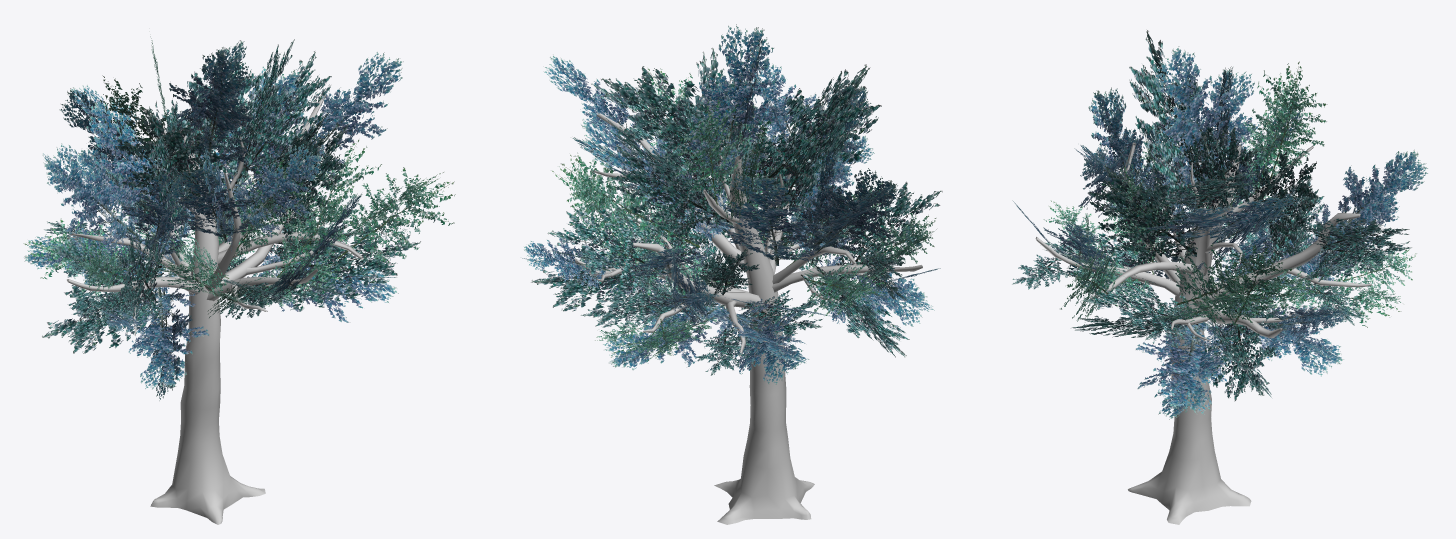
File: SM_TreeCombined_01.fbx
3 renders of one model, left to right at view 1: azimuth 30°, elevation 25°; view 2: azimuth 150°, elevation 25°; view 3: azimuth 270°, elevation 25°, orthographic. The views are drawn at different scales.
Visible parts, largest first — view 1: Tree_03; view 2: Tree_03; view 3: Tree_03.
Boxes of the visible parts, x1,y1,x2,y2 form: Tree_03: [23, 36, 455, 524]; Tree_03: [522, 24, 942, 524]; Tree_03: [1012, 30, 1427, 524].
Bounding box in the file's own units: 538 × 630 × 542.
